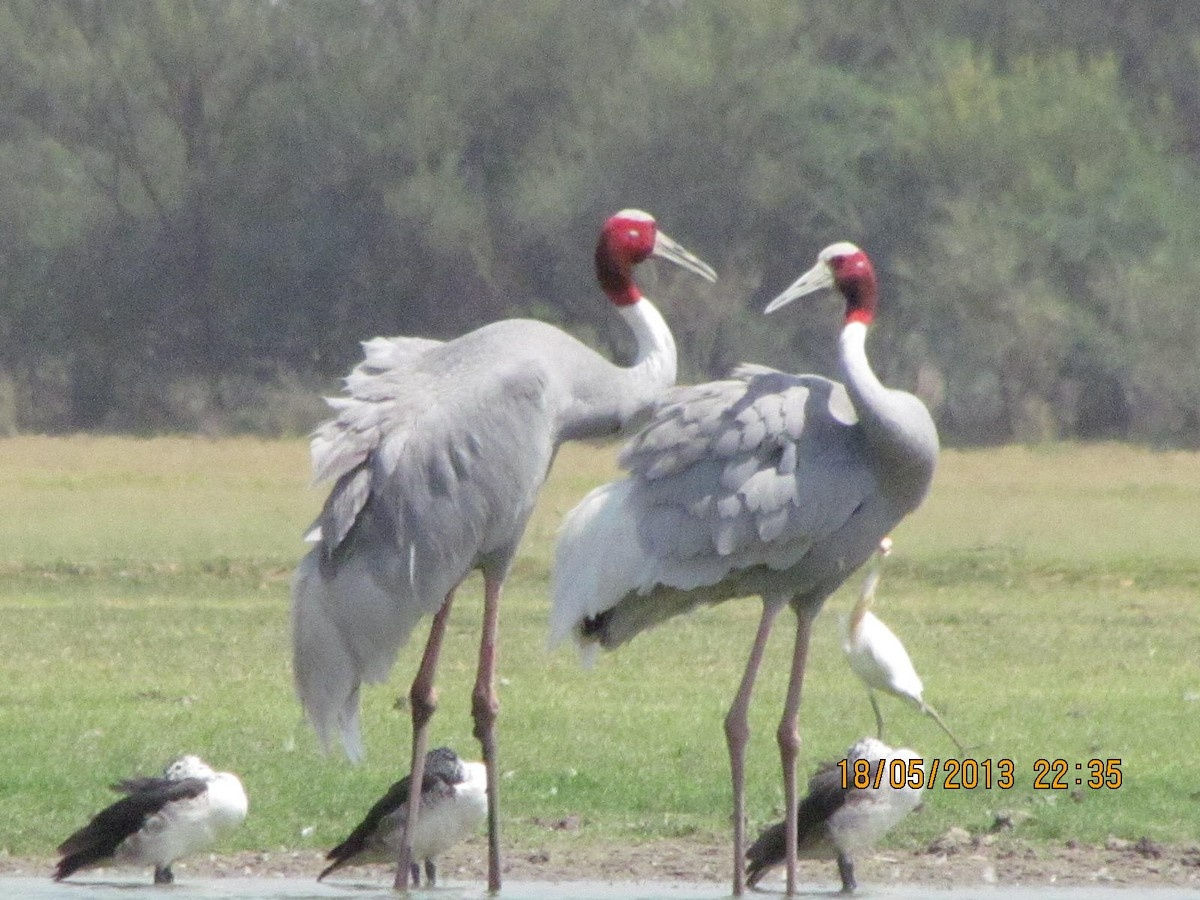crane: (295, 203, 728, 900), (661, 240, 942, 884)
